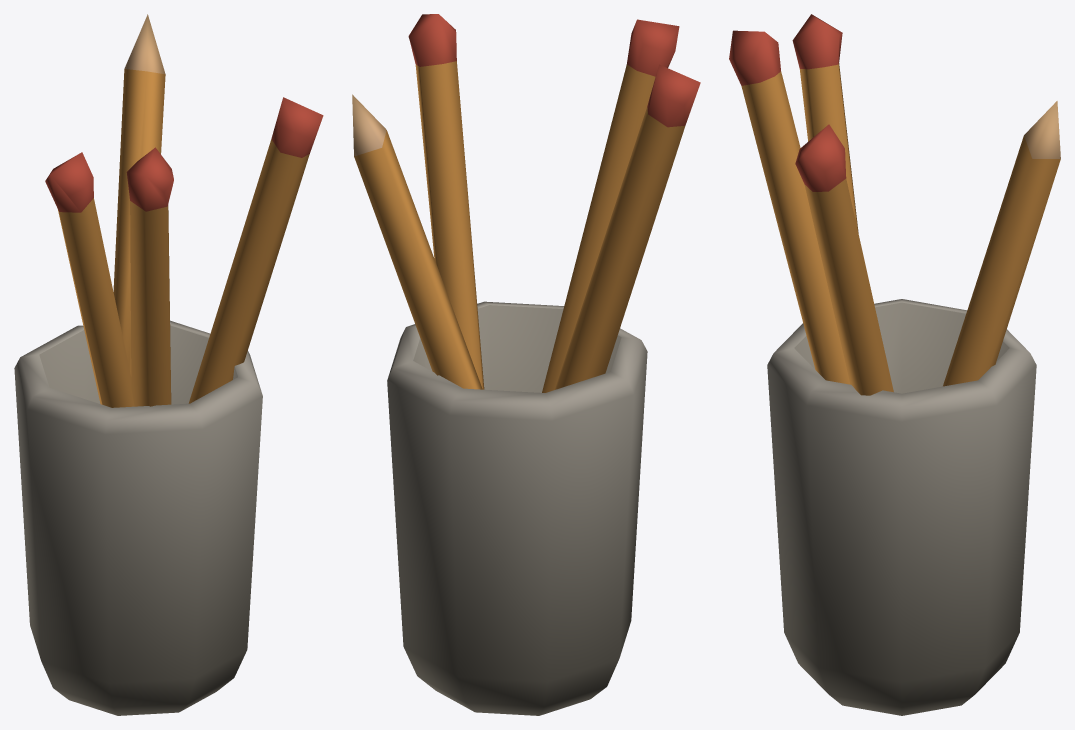
The model's file is PencilCup1.fbx.
The picture shows the model from 3 angles, left to right: view 1: azimuth 30°, elevation 25°; view 2: azimuth 150°, elevation 25°; view 3: azimuth 270°, elevation 25°; orthographic projection. The views are drawn at different scales.
Parts seen in each view (by area): view 1: Plane.009; view 2: Plane.009; view 3: Plane.009.
Boxes of the visible parts, bbox=[...] form: Plane.009: bbox=[14, 14, 323, 715]; Plane.009: bbox=[352, 14, 700, 715]; Plane.009: bbox=[729, 14, 1060, 715].
Bounding box in the file's own units: 20.31 × 43.22 × 20.46.
